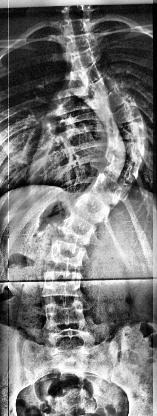Vertebrae: (57, 210, 98, 249), (42, 298, 86, 332), (46, 237, 86, 271), (41, 269, 85, 299), (96, 82, 132, 118), (103, 157, 142, 187), (105, 95, 143, 125), (76, 192, 111, 224), (109, 116, 148, 142), (93, 176, 129, 204), (78, 74, 112, 102), (109, 140, 145, 166), (62, 31, 100, 54), (65, 46, 97, 72), (72, 63, 104, 88), (62, 18, 96, 36)
